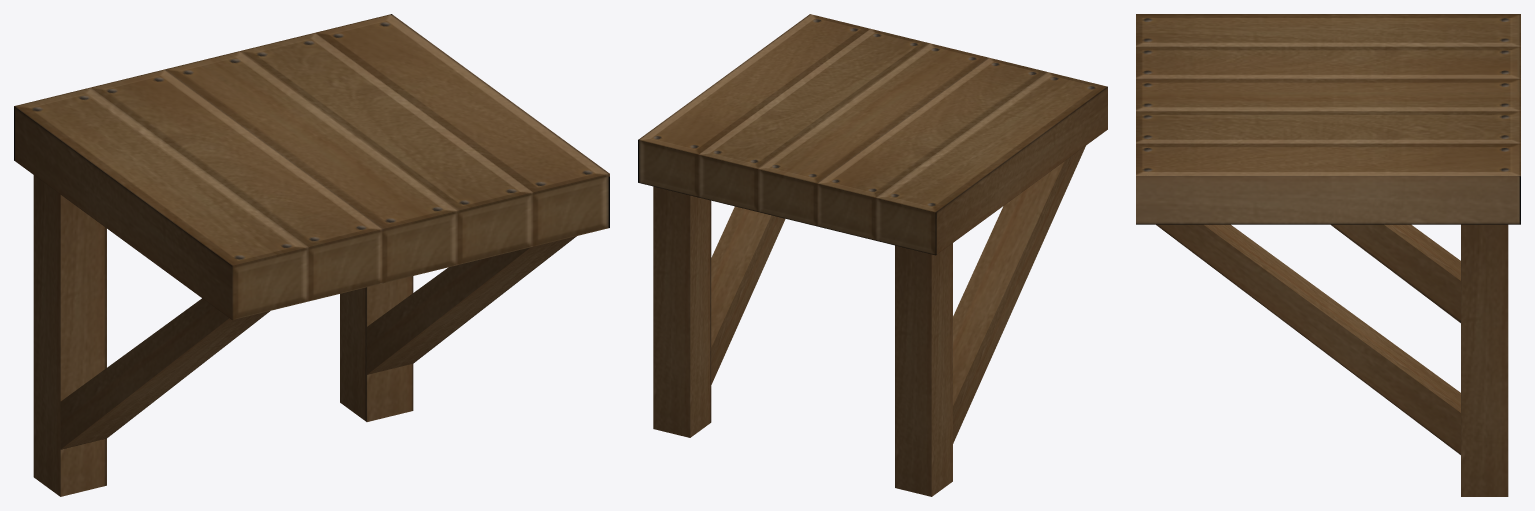
Rendered from treebox_2.FBX.
The picture shows the model from 3 angles, left to right: view 1: azimuth 30°, elevation 25°; view 2: azimuth 150°, elevation 25°; view 3: azimuth 270°, elevation 25°; orthographic projection. The views are drawn at different scales.
Visible parts, largest first — view 1: Box001; view 2: Box001; view 3: Box001.
Part boxes in pixels (bbox=[...]): Box001: bbox=[14, 14, 609, 496]; Box001: bbox=[638, 14, 1107, 496]; Box001: bbox=[1136, 14, 1520, 496].
Bounding box in the file's own units: 31.32 × 29.23 × 31.32.
